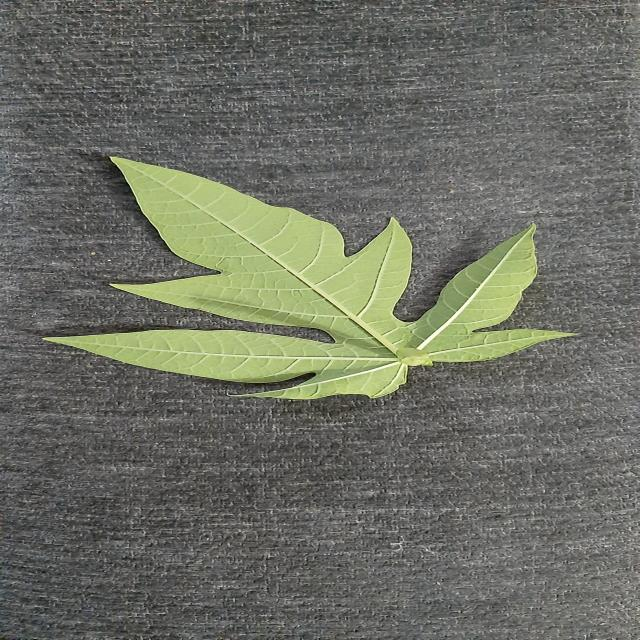papaya: (46, 158, 569, 399)
